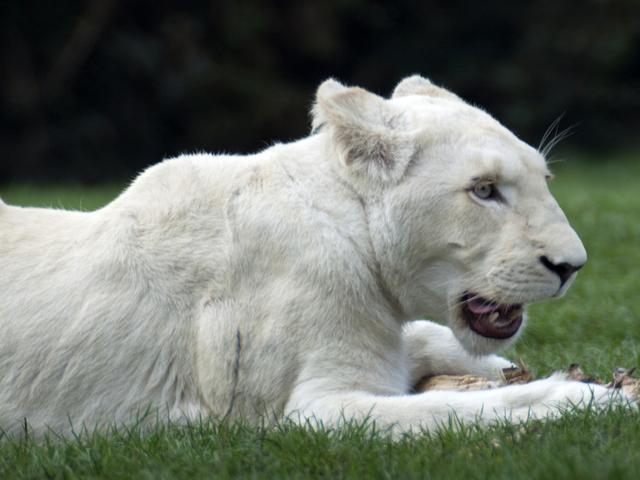lion: (15, 53, 612, 480)
